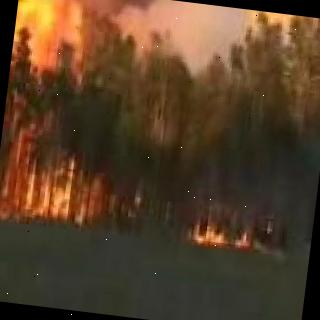fire: (0, 0, 132, 227), (178, 202, 274, 252)
